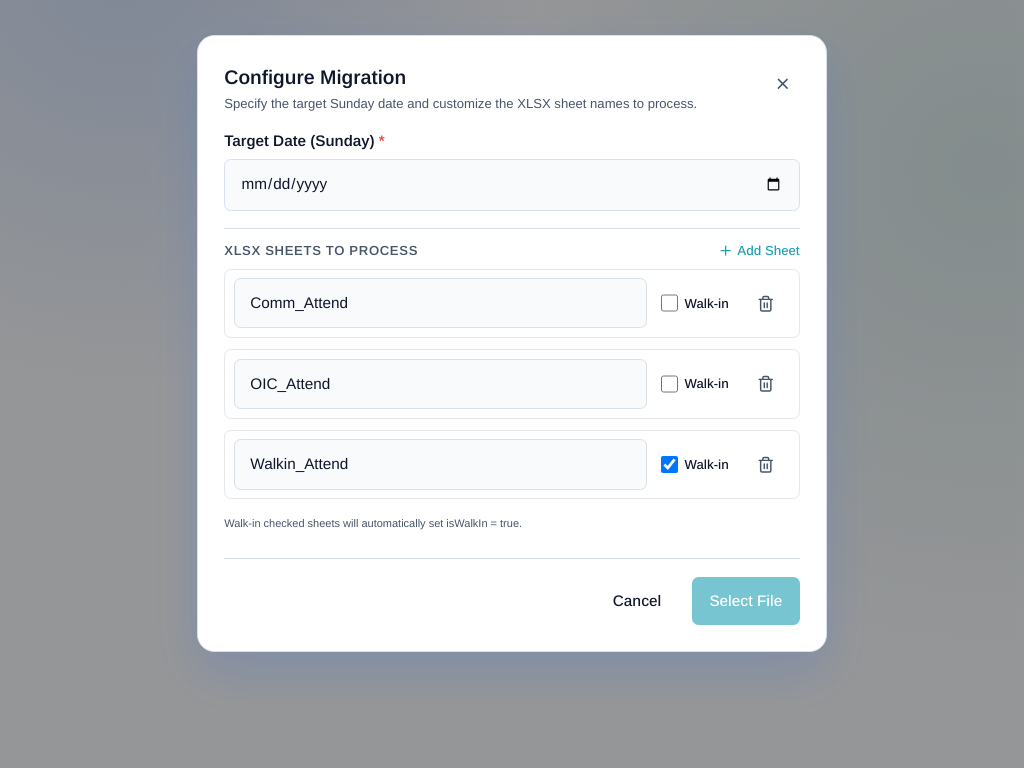
Test: MigrationConfigDialog › validates that target date must be a Sunday and displays an error message
Expected: the button "Select File" is disabled, [692,577,800,625]
// Select a Monday (2026-03-16)
Type "2026-03-16" into the date field labelled "Target Date (Sunday) *". click: (512, 185)
box: [224,158,800,211]
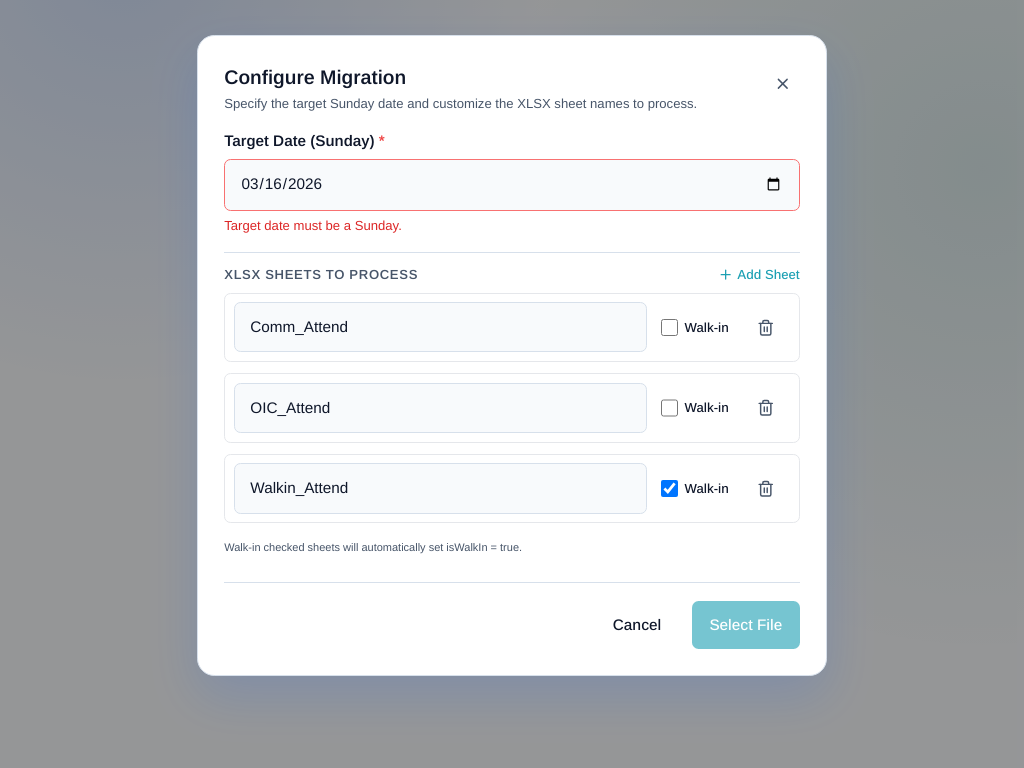
Expected: the button "Select File" is disabled, [692,601,800,649]
Expected: the text "Target date must be a Sunday." is shown, [224,218,402,233]
// Change to Sunday (2026-03-15)
Type "2026-03-15" into the date field labelled "Target Date (Sunday) *". click: (512, 185)
box: [224,158,800,211]
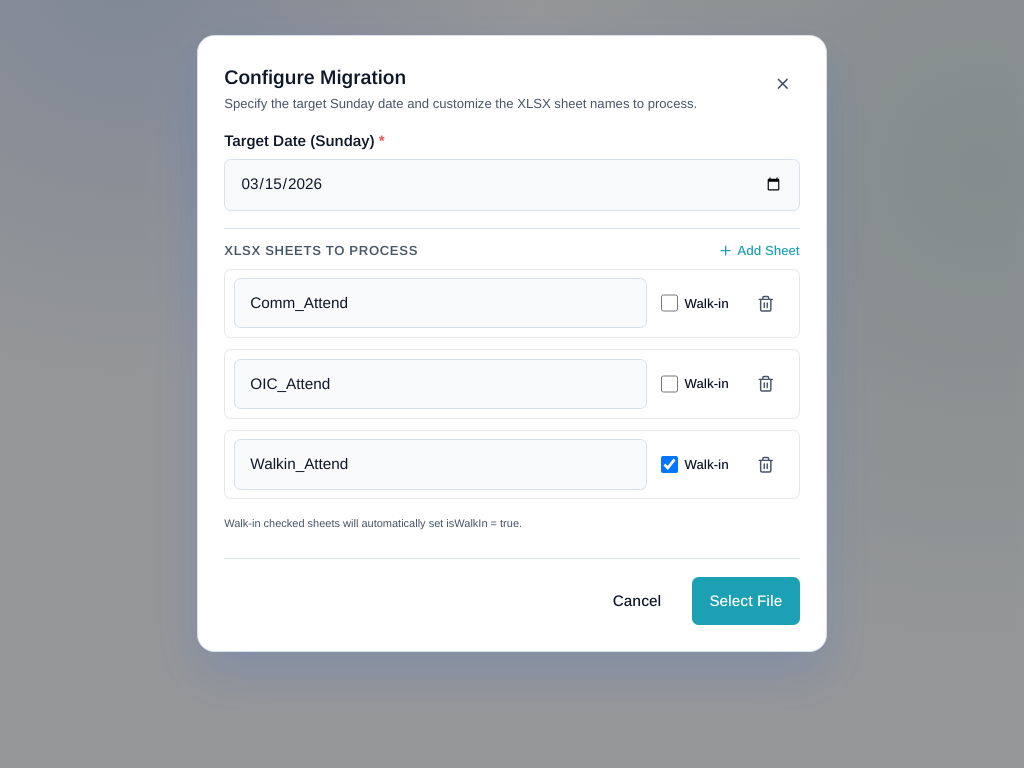
Expected: the text "Target date must be a Sunday." is gone
Expected: the button "Select File" is enabled, [692,577,800,625]
